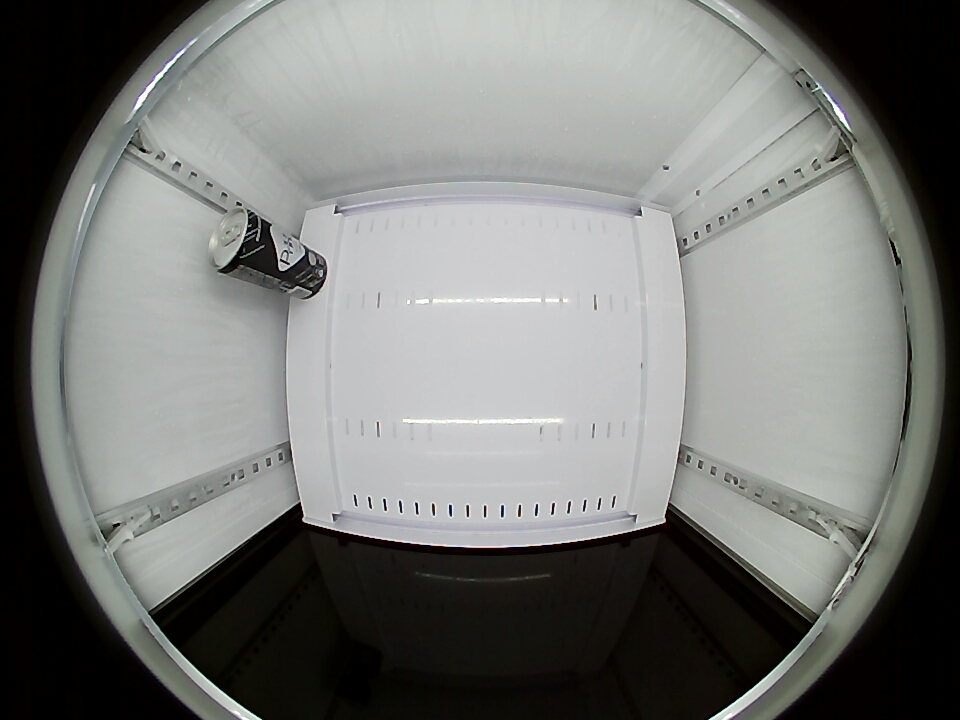qingdaowangzi-1: (208, 208, 272, 279)
